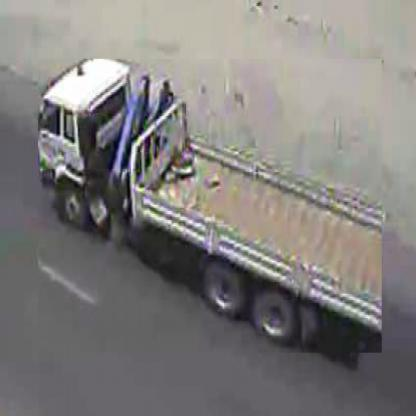container: (39, 60, 384, 355)
